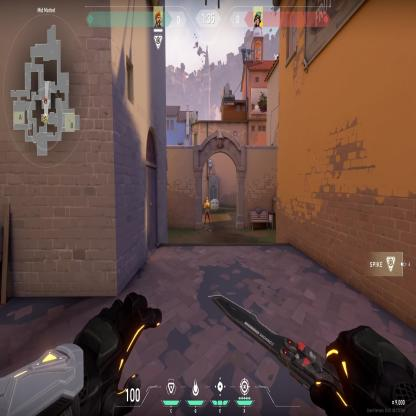enemy: (203, 196, 211, 231)
